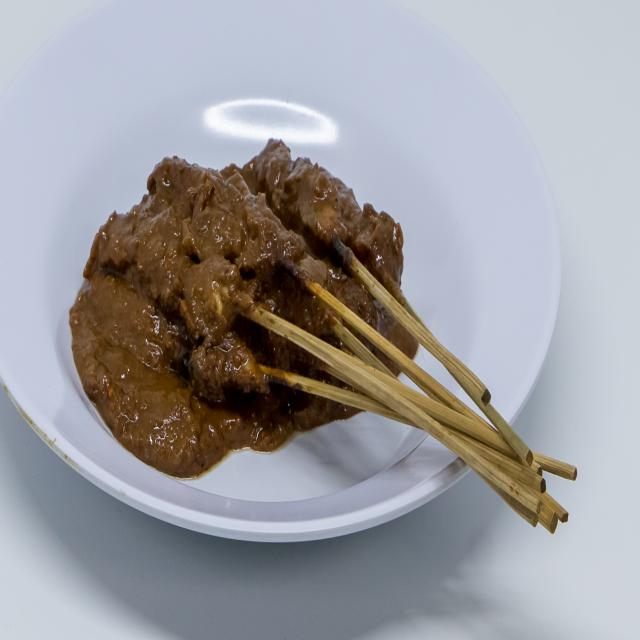Sate-Ayam: (62, 97, 439, 500)
